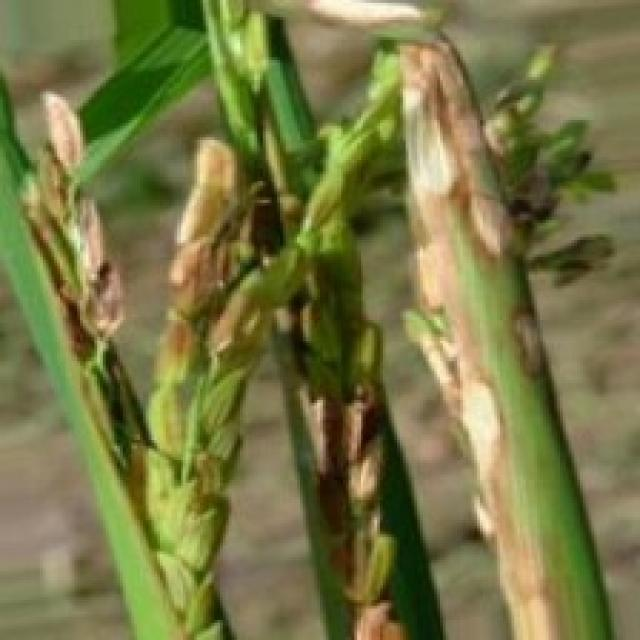Bacterial_Blight: (396, 37, 583, 637)
